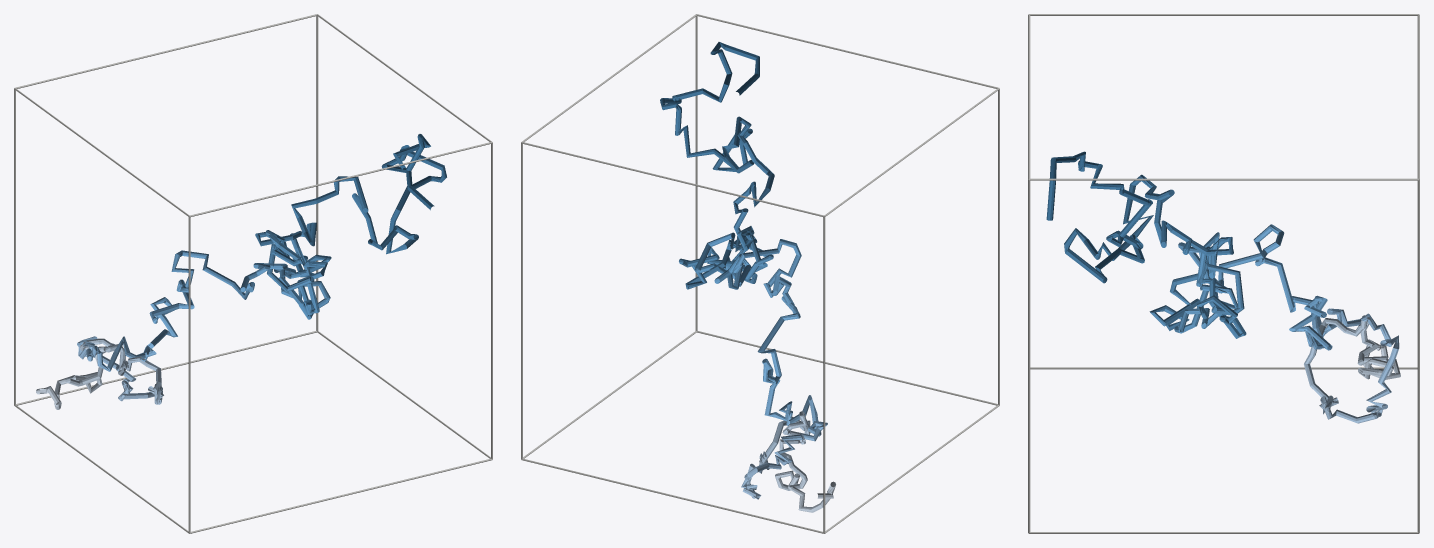
3 renders of one model, left to right at view 1: azimuth 30°, elevation 25°; view 2: azimuth 150°, elevation 25°; view 3: azimuth 270°, elevation 25°, orthographic. The views are drawn at different scales.
Parts seen in each view (by area): view 1: geometry_0, geometry_1; view 2: geometry_0, geometry_1; view 3: geometry_0, geometry_1.
Part boxes in pixels (x1,y1,x2,y2): geometry_0: (36, 134, 446, 409); geometry_1: (14, 14, 492, 533); geometry_0: (660, 42, 835, 512); geometry_1: (521, 14, 999, 533); geometry_0: (1046, 151, 1400, 423); geometry_1: (1028, 14, 1419, 533).
Size of the model in its own units: 0.3016 by 0.3042 by 0.3016.
